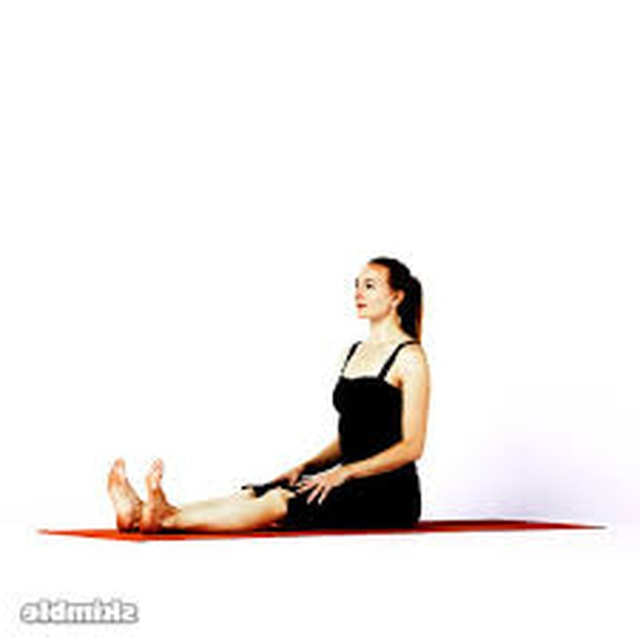Staff_Pose: (107, 256, 431, 537)
